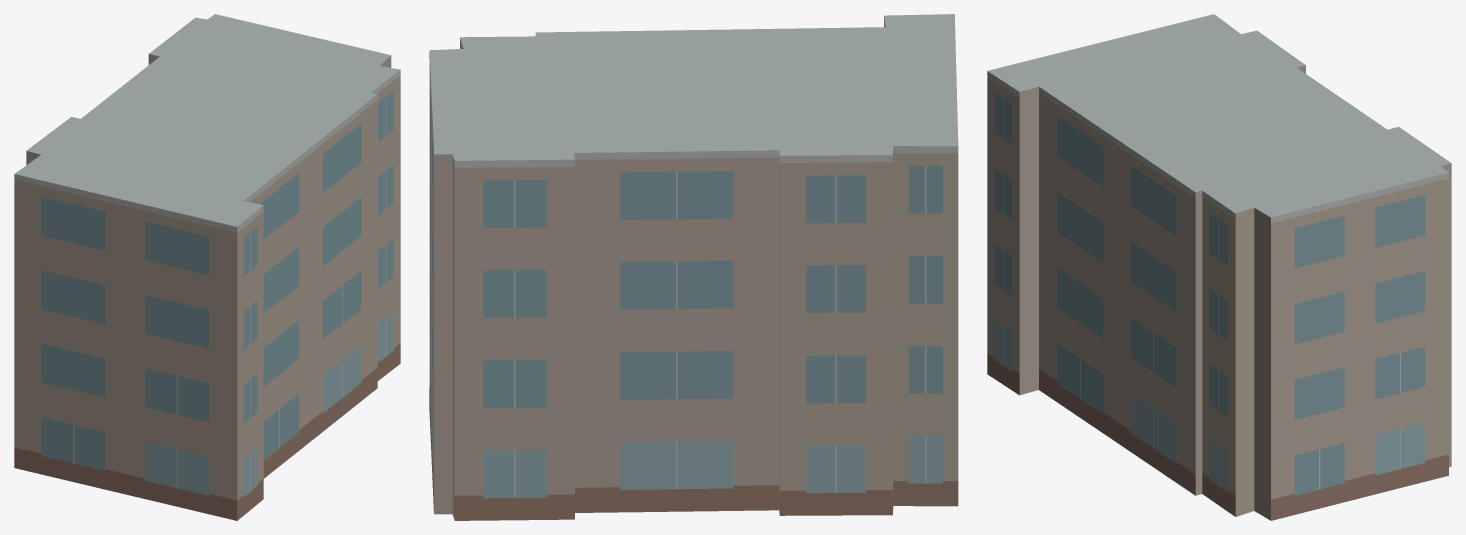
The model's file is survey-upis-32880627.glb.
3 renders of one model, left to right at view 1: azimuth 30°, elevation 25°; view 2: azimuth 150°, elevation 25°; view 3: azimuth 270°, elevation 25°, orthographic. The views are drawn at different scales.
Visible parts, largest first — view 1: survey-upis-32880627.tmp; view 2: survey-upis-32880627.tmp; view 3: survey-upis-32880627.tmp.
Part boxes in pixels (x1=…): survey-upis-32880627.tmp: x1=14, y1=14, x2=400, y2=520; survey-upis-32880627.tmp: x1=429, y1=14, x2=958, y2=520; survey-upis-32880627.tmp: x1=987, y1=14, x2=1451, y2=520.
Bounding box in the file's own units: 17.57 × 12.2 × 16.94.
